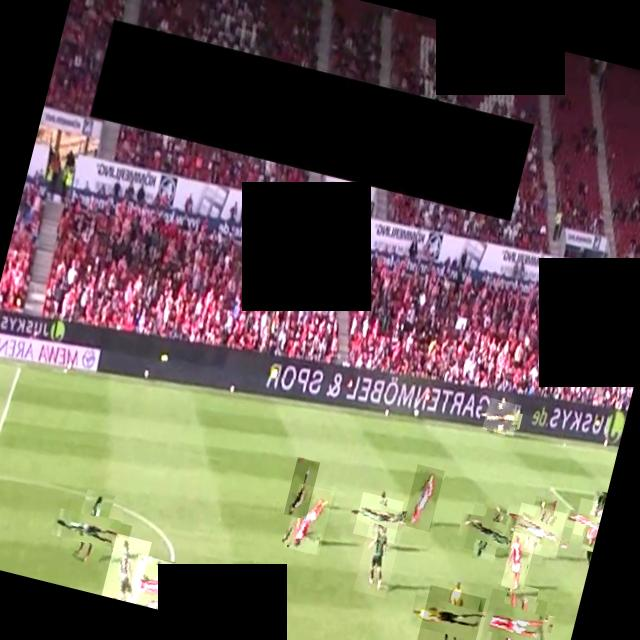referee: (416, 584, 485, 640), (482, 397, 520, 436)
soccer-player: (59, 496, 124, 564), (283, 482, 334, 556), (352, 523, 402, 598), (478, 587, 547, 640), (101, 533, 151, 604), (126, 554, 184, 612), (509, 502, 566, 559), (462, 504, 516, 558), (402, 464, 444, 532), (352, 492, 403, 544), (283, 456, 320, 520), (203, 582, 251, 630), (500, 531, 536, 591), (572, 497, 604, 539)
